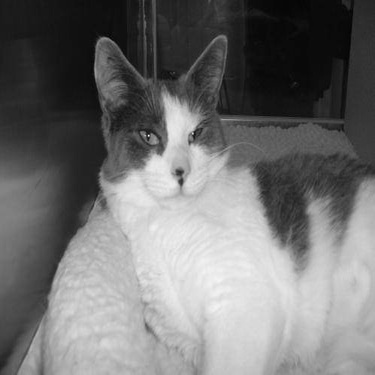cat: (91, 35, 370, 371)
